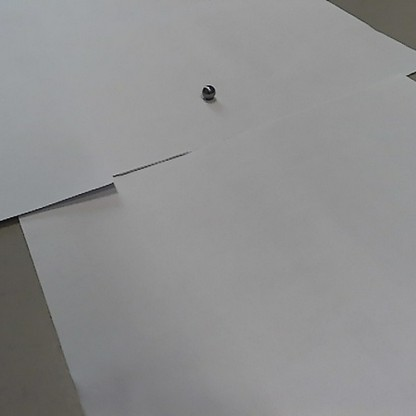ironball: (200, 82, 217, 101)
